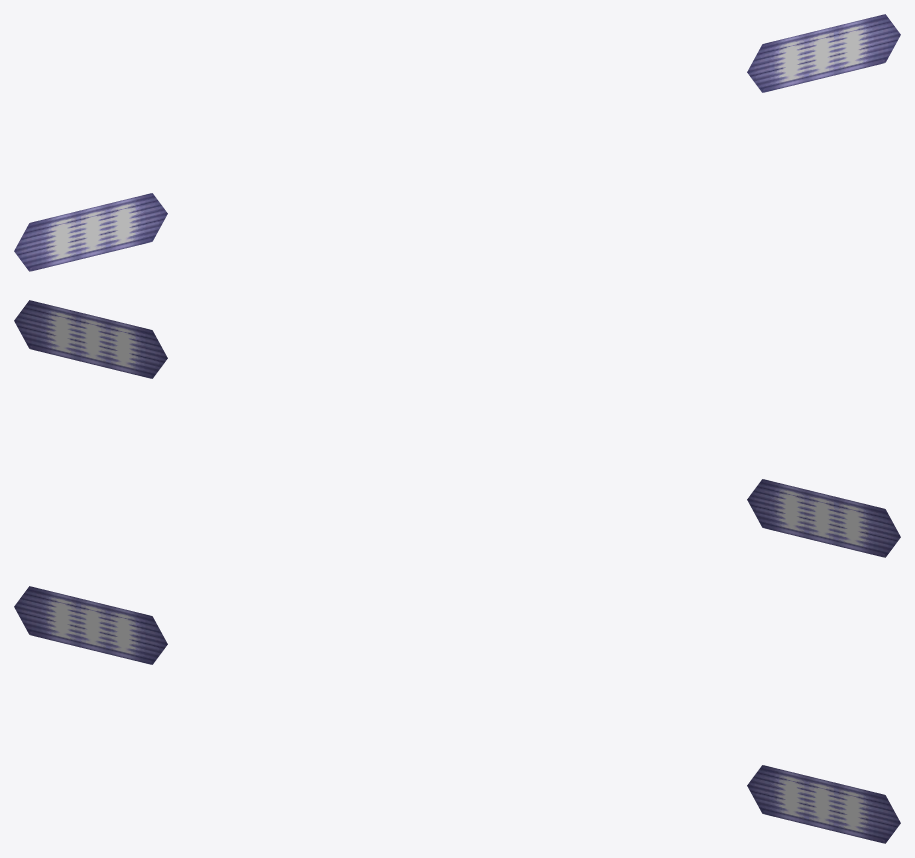
Rendered from yt1300_booster_s01_on_l2.fbx.
The picture shows the model from 3 angles, top to bottom: view 1: azimuth 30°, elevation 25°; view 2: azimuth 150°, elevation 25°; view 3: azimuth 330°, elevation 25°; orthographic projection.
Visible parts, largest first — view 1: mesh_node; view 2: mesh_node; view 3: mesh_node.
Boxes of the visible parts, x1,y1,x2,y2 form: mesh_node: (14, 14, 900, 271); mesh_node: (14, 300, 900, 557); mesh_node: (14, 586, 900, 843).
Bounding box in the file's own units: 10.05 × 0.5301 × 0.
Materials: 1 (1 with a texture image).
